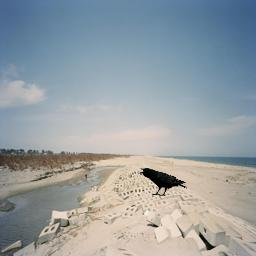Crow: (139, 168, 187, 196)
